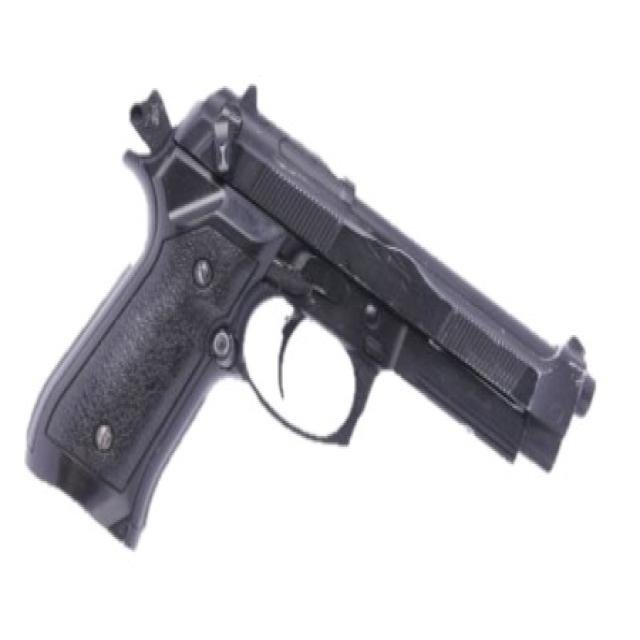pistol: (17, 71, 603, 553)
